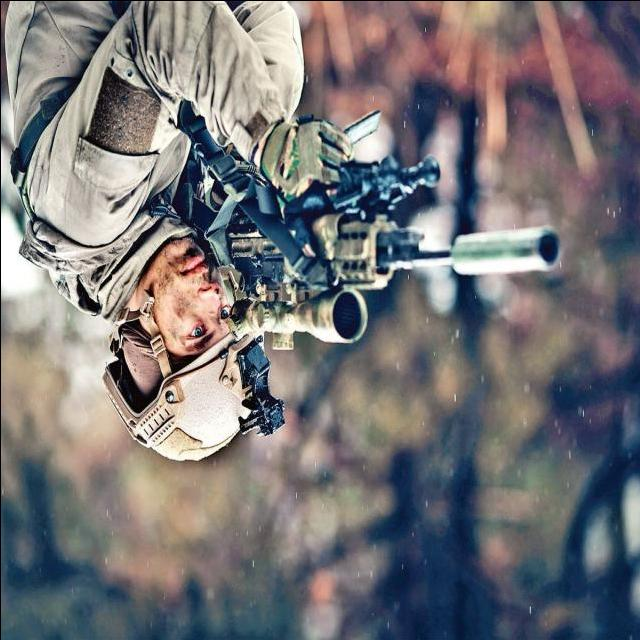scope: (224, 290, 374, 354)
sniper rifle: (209, 181, 565, 339)
